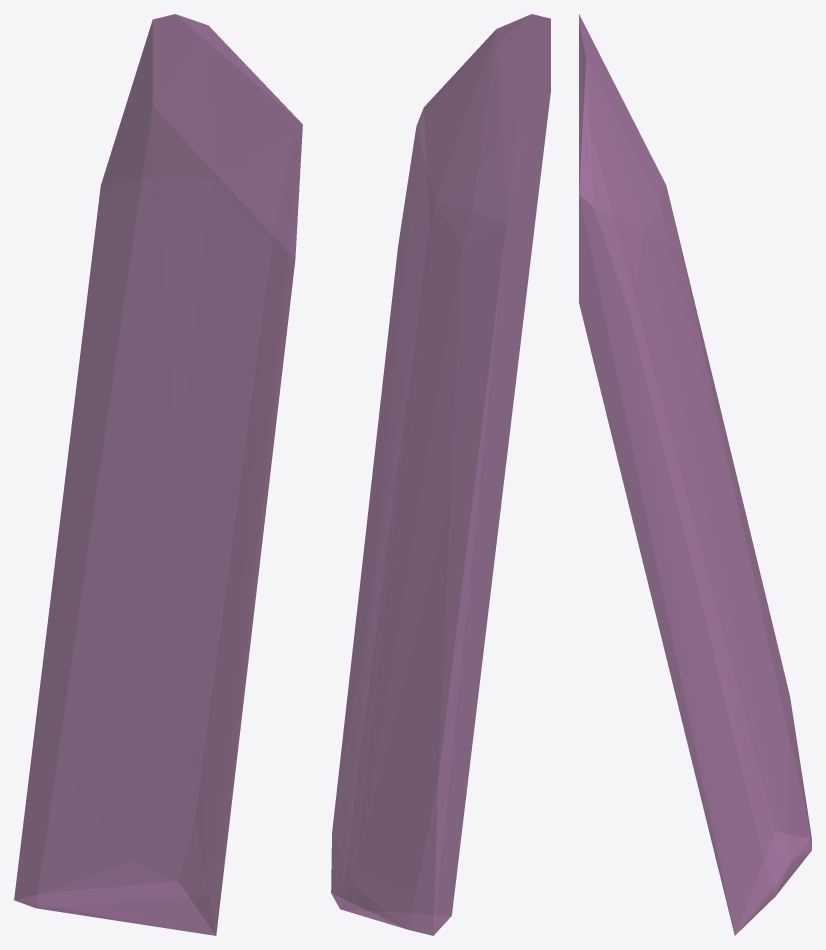
The picture shows the model from 3 angles, left to right: view 1: azimuth 30°, elevation 25°; view 2: azimuth 150°, elevation 25°; view 3: azimuth 270°, elevation 25°; orthographic projection. The views are drawn at different scales.
Parts seen in each view (by area): view 1: Shape_IndexedFaceSet.024_Shape_IndexedFaceSet.9832; view 2: Shape_IndexedFaceSet.024_Shape_IndexedFaceSet.9832; view 3: Shape_IndexedFaceSet.024_Shape_IndexedFaceSet.9832.
Boxes of the visible parts, x1,y1,x2,y2 form: Shape_IndexedFaceSet.024_Shape_IndexedFaceSet.9832: [14, 14, 302, 935]; Shape_IndexedFaceSet.024_Shape_IndexedFaceSet.9832: [331, 14, 550, 935]; Shape_IndexedFaceSet.024_Shape_IndexedFaceSet.9832: [579, 14, 811, 935].
Bounding box in the file's own units: 0.1182 × 0.7389 × 0.1817.
